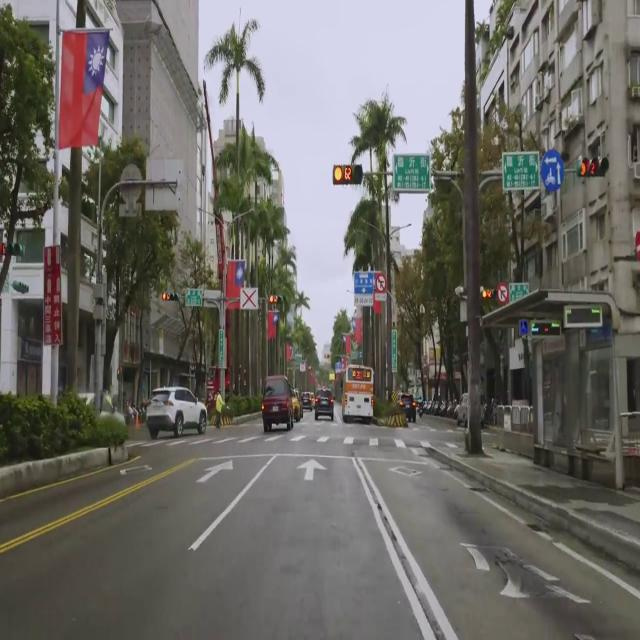red light: (332, 162, 364, 185), (268, 293, 284, 306), (162, 291, 177, 302)
